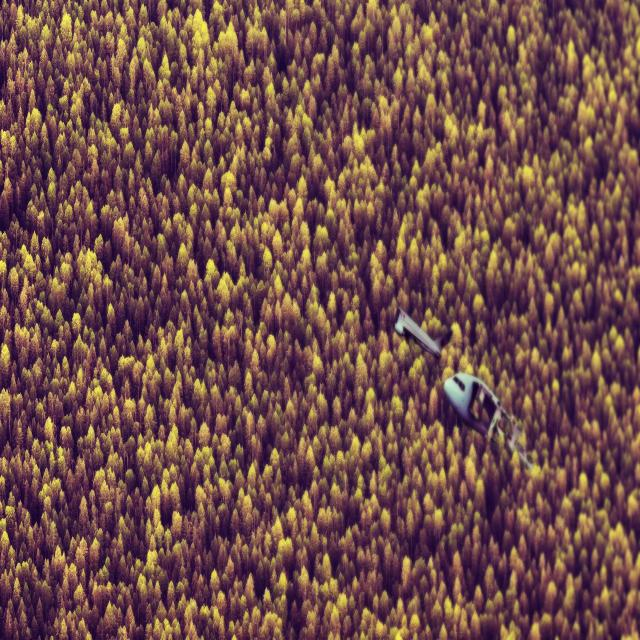airplane: (442, 371, 532, 471), (393, 306, 452, 360)
